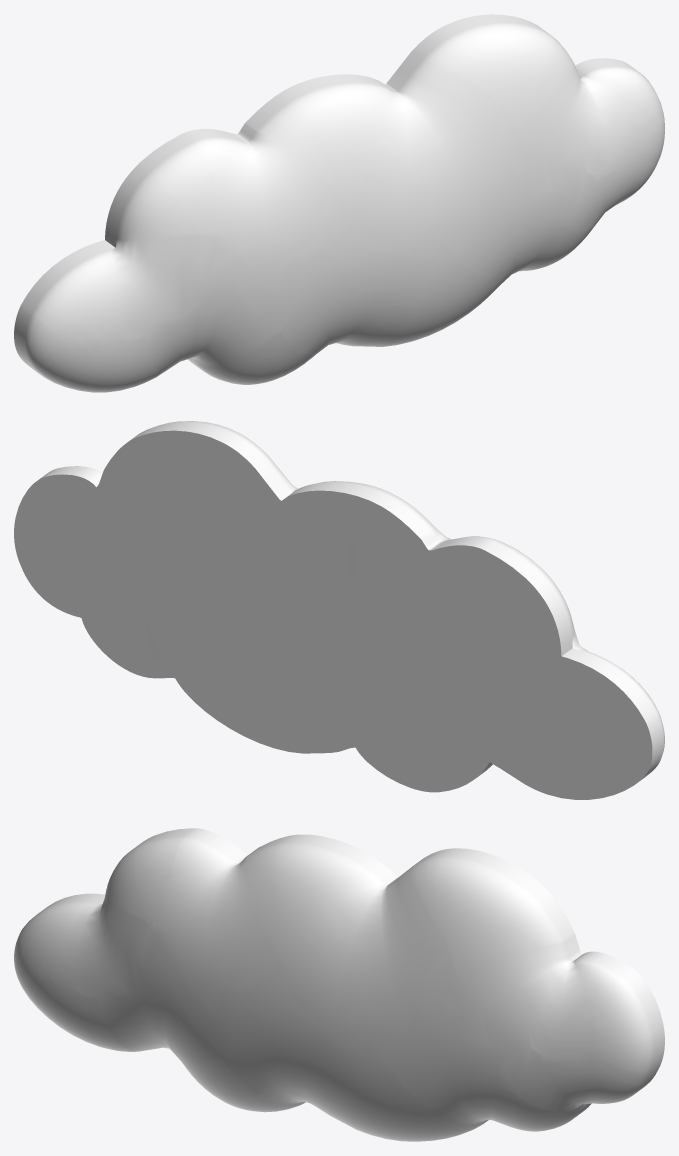
File: cloud.obj
3 views of the same model, one above another, from view 1: azimuth 30°, elevation 25°; view 2: azimuth 150°, elevation 25°; view 3: azimuth 330°, elevation 25° (orthographic).
Parts seen in each view (by area): view 1: cloud2; view 2: cloud2; view 3: cloud2.
Part boxes in pixels (bbox=[...]): cloud2: bbox=[14, 14, 664, 392]; cloud2: bbox=[14, 421, 664, 799]; cloud2: bbox=[14, 828, 664, 1141].
Bounding box in the file's own units: 19.47 × 8.83 × 2.24.
3 materials, 3 textured.
